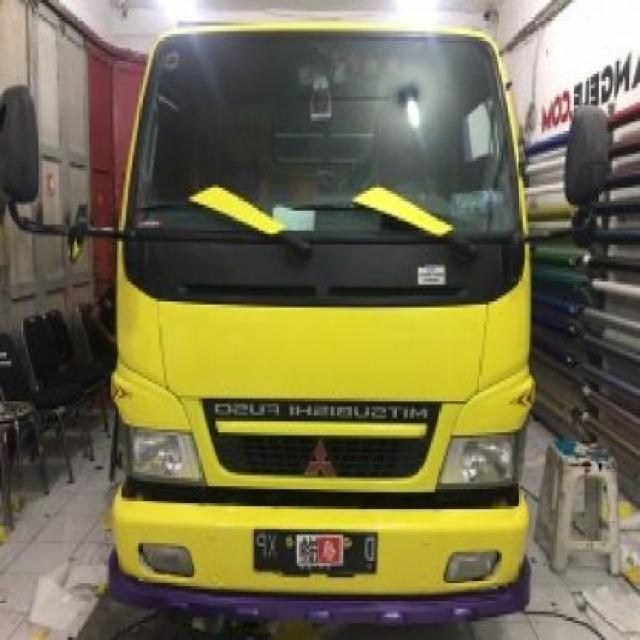truck: (3, 13, 616, 639)
